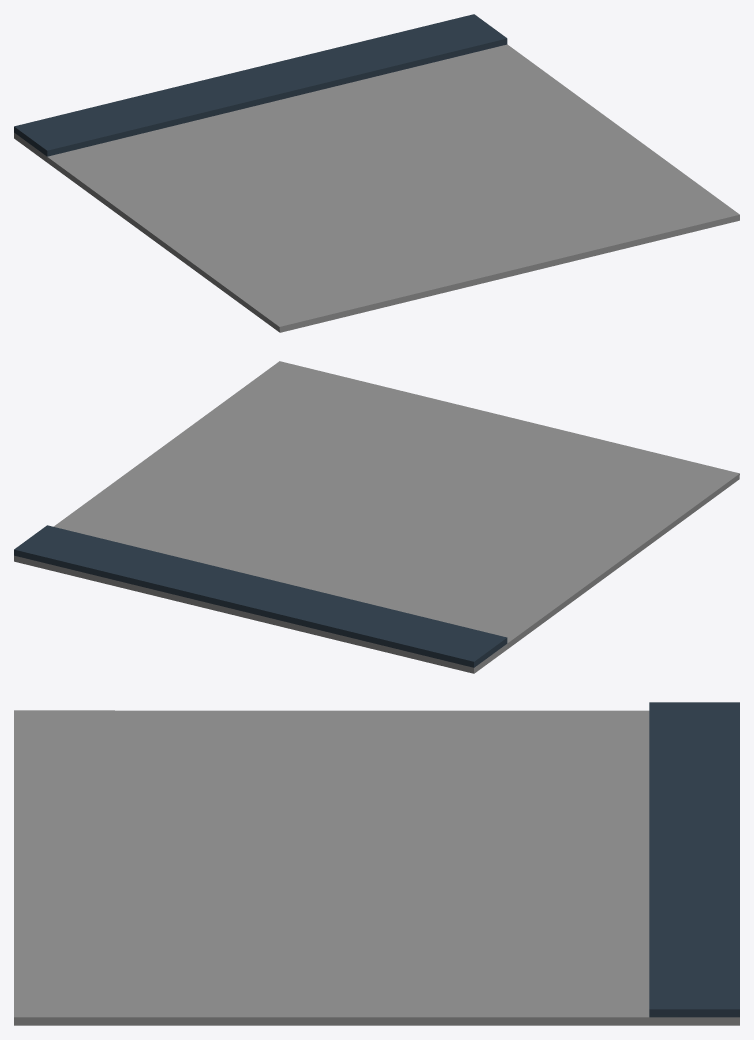
Rendered from Tile4x4MeioFio.fbx.
The picture shows the model from 3 angles, top to bottom: view 1: azimuth 30°, elevation 25°; view 2: azimuth 150°, elevation 25°; view 3: azimuth 270°, elevation 25°; orthographic projection. The views are drawn at different scales.
Parts seen in each view (by area): view 1: TileMeioFio4x4; view 2: TileMeioFio4x4; view 3: TileMeioFio4x4.
Boxes of the visible parts, <box> form: TileMeioFio4x4: <box>14,14,739,332</box>; TileMeioFio4x4: <box>14,361,739,673</box>; TileMeioFio4x4: <box>14,702,739,1025</box>.
Bounding box in the file's own units: 800 × 20 × 800.
